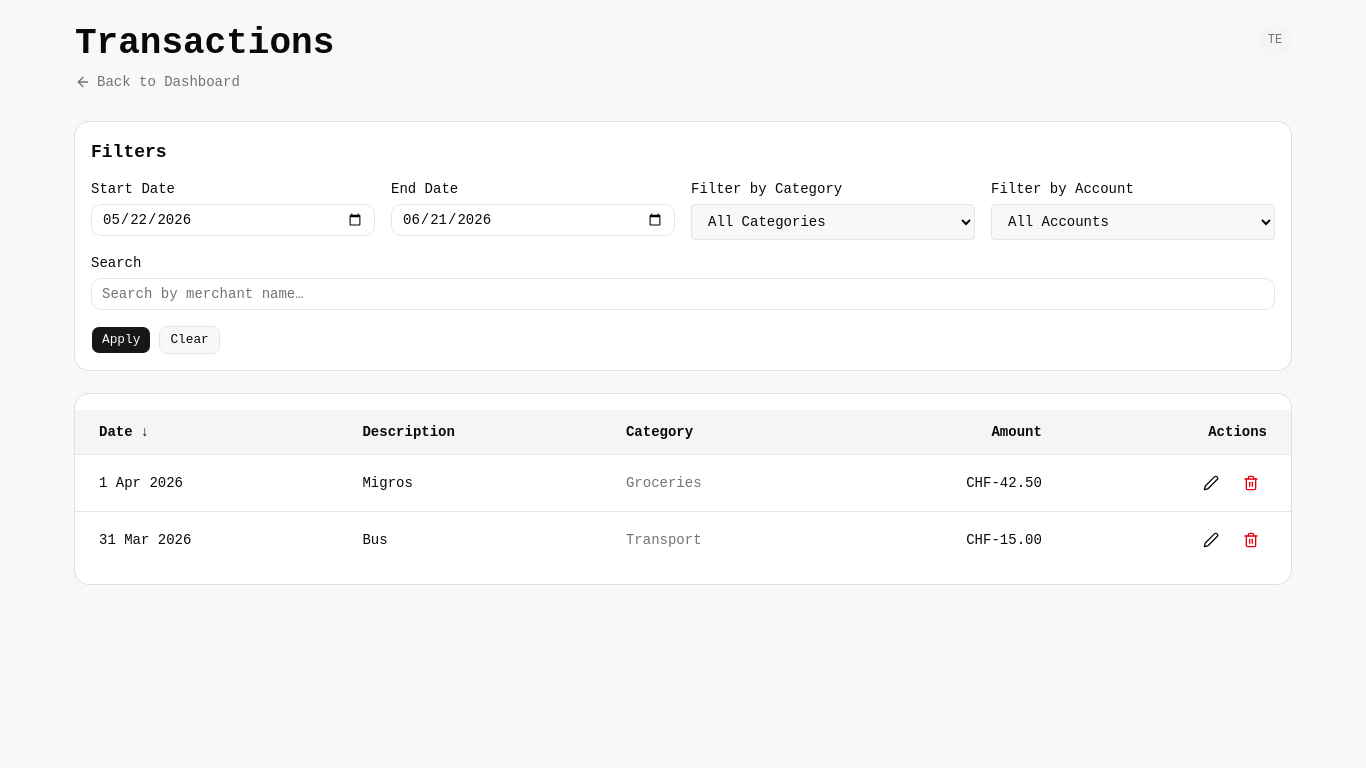
Test: TransactionsPage › exposes Sign out from the user menu
Expected: the text "Migros" is shown, [338,454,602,512]
Click the button with aria-label "User menu". click: [1275, 40]
box: [1259,24,1291,56]
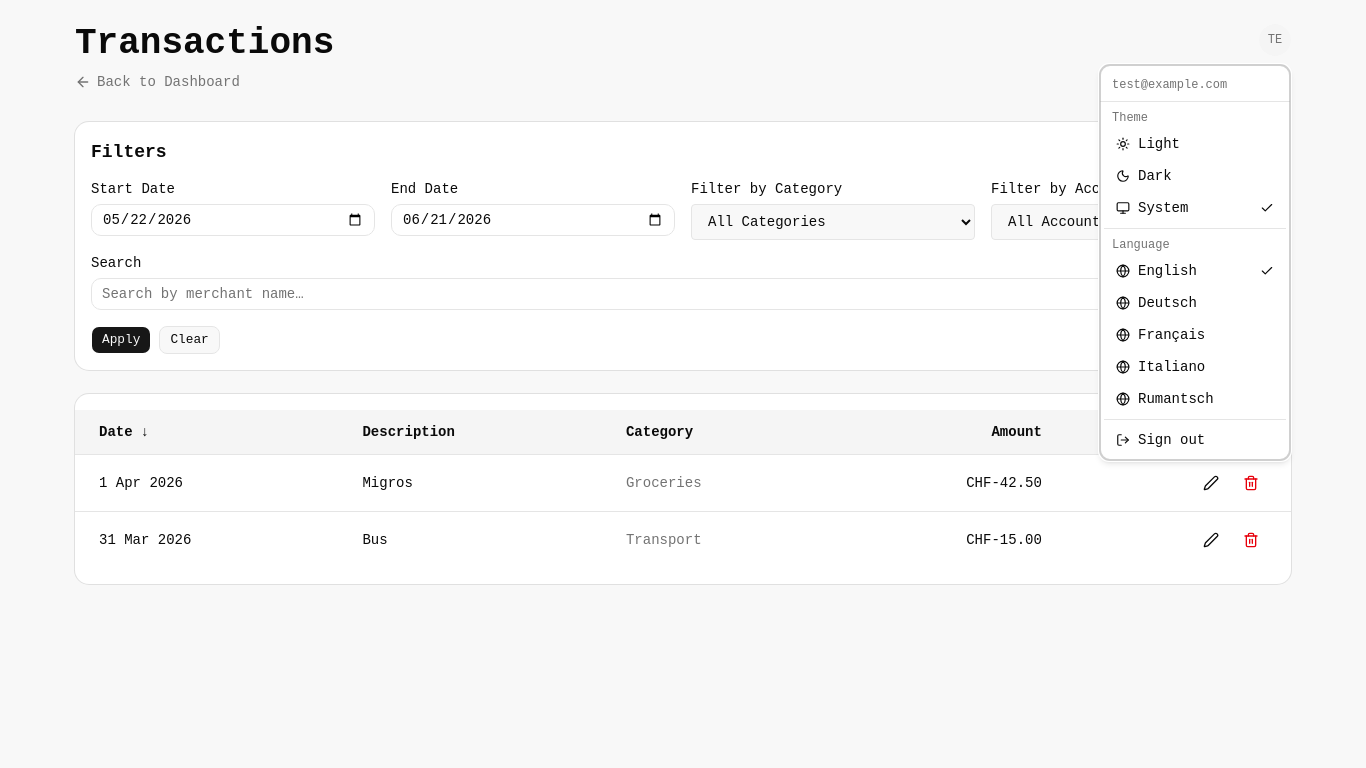
Now the menu item "Sign out" is shown, box [1116,432,1205,448]
